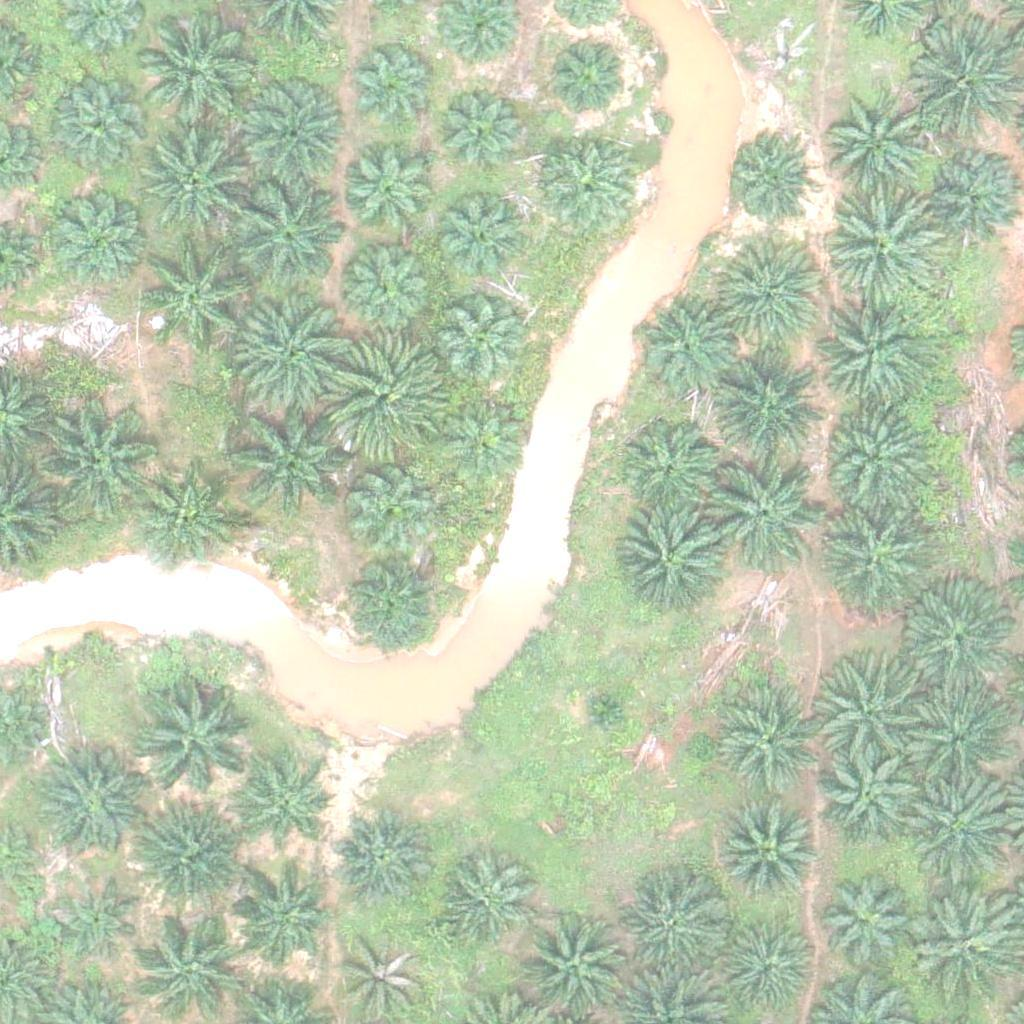Kelapa_Sawit: (907, 769, 1020, 883), (824, 396, 937, 510), (815, 301, 928, 415), (713, 237, 826, 351), (230, 74, 343, 188), (612, 508, 725, 621), (138, 677, 251, 790), (32, 750, 145, 863), (329, 338, 442, 451), (234, 172, 347, 285), (137, 908, 249, 1022), (712, 345, 824, 459), (241, 299, 353, 413), (905, 591, 1017, 704), (816, 499, 928, 612), (816, 647, 928, 760), (704, 456, 816, 569), (518, 910, 630, 1023), (230, 401, 342, 514), (128, 805, 240, 918), (41, 401, 153, 514), (826, 78, 938, 191), (830, 192, 942, 305), (142, 238, 254, 351), (142, 129, 254, 242), (138, 17, 250, 130), (817, 875, 917, 976), (818, 745, 918, 846), (619, 418, 719, 519), (434, 851, 534, 952), (230, 871, 330, 972), (922, 145, 1022, 246), (538, 130, 638, 231), (430, 191, 530, 292), (47, 84, 147, 185), (638, 298, 738, 399), (908, 688, 1008, 788), (719, 696, 819, 796), (720, 805, 820, 905), (720, 921, 820, 1021), (622, 881, 722, 981), (340, 553, 440, 653), (331, 806, 431, 906), (137, 474, 237, 574), (340, 237, 440, 337), (344, 141, 444, 241), (46, 190, 146, 290), (344, 460, 432, 548), (55, 878, 143, 966), (441, 395, 529, 483), (350, 44, 438, 132), (242, 767, 329, 855), (726, 131, 813, 219), (545, 33, 632, 121), (439, 303, 526, 391), (434, 82, 521, 170), (577, 683, 627, 734)
